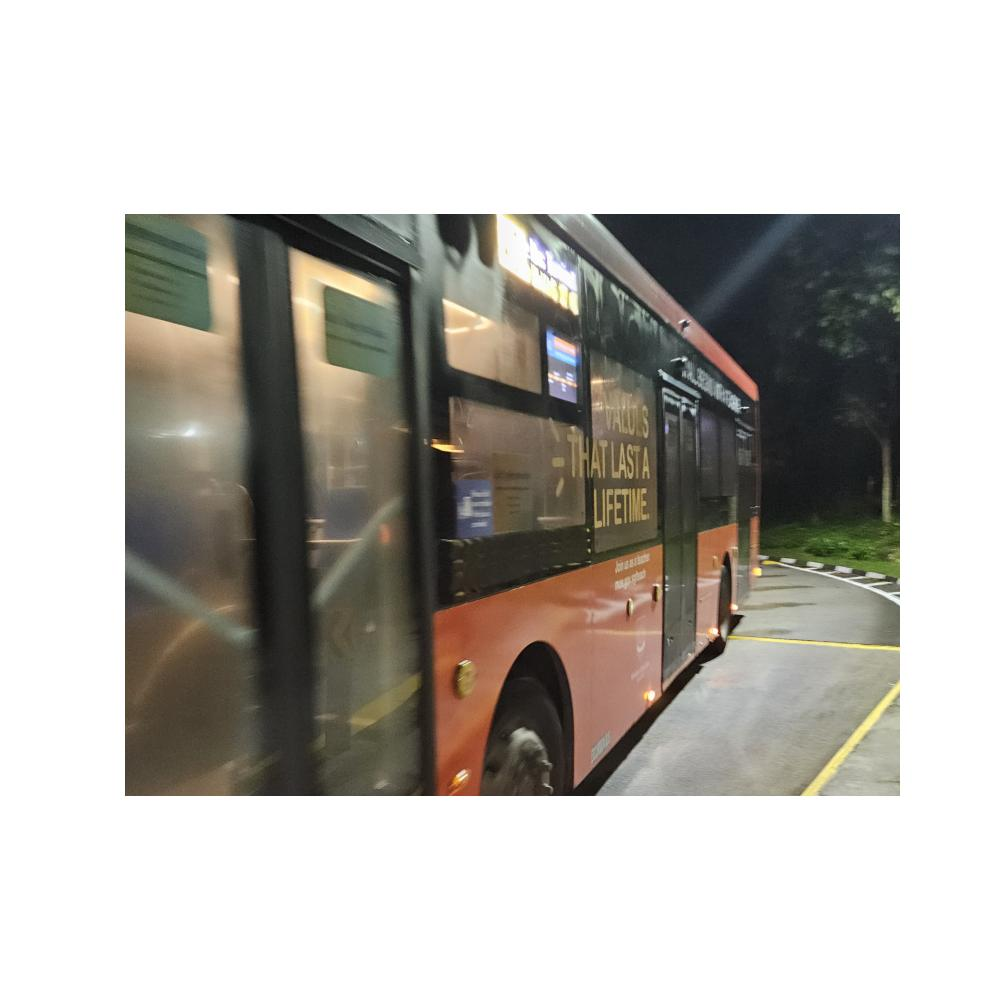bus: (124, 213, 760, 792)
